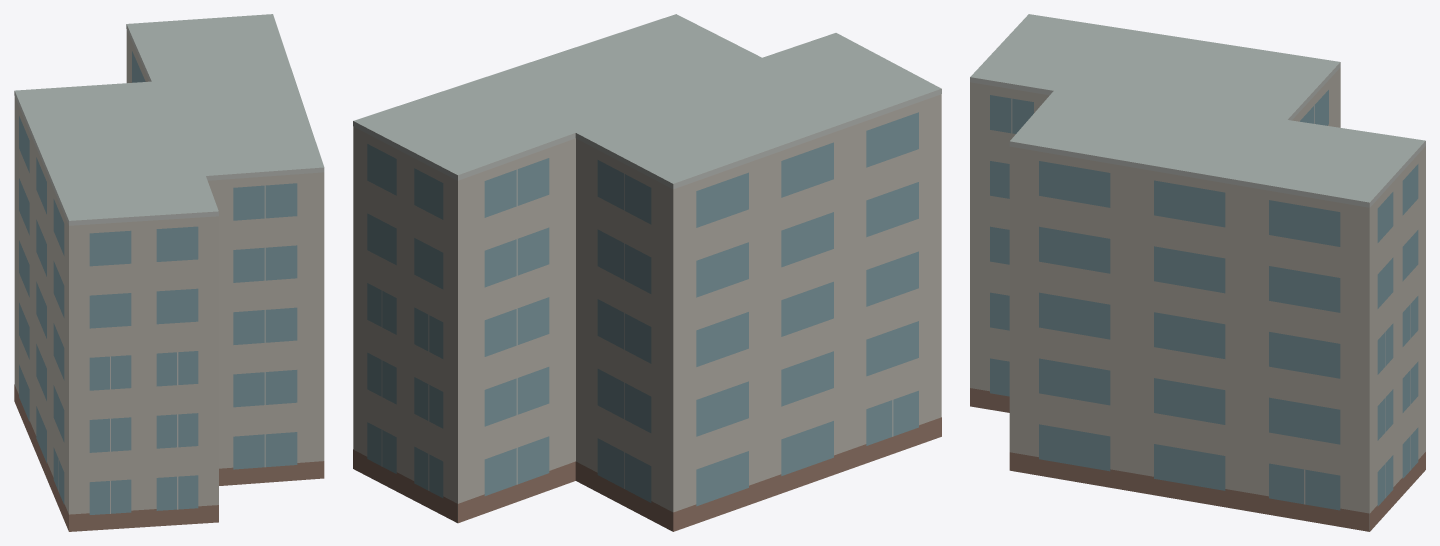
The model's file is survey-upis-32815827.glb.
3 views of the same model, side by side, from view 1: azimuth 30°, elevation 25°; view 2: azimuth 150°, elevation 25°; view 3: azimuth 270°, elevation 25° (orthographic). The views are drawn at different scales.
Visible parts, largest first — view 1: survey-upis-32815827.tmp; view 2: survey-upis-32815827.tmp; view 3: survey-upis-32815827.tmp.
Part boxes in pixels (x1,y1,x2,y2): survey-upis-32815827.tmp: [14, 14, 324, 531]; survey-upis-32815827.tmp: [353, 14, 941, 531]; survey-upis-32815827.tmp: [970, 14, 1425, 531].
Size of the model in its own units: 19.05 by 15.5 by 19.45.
